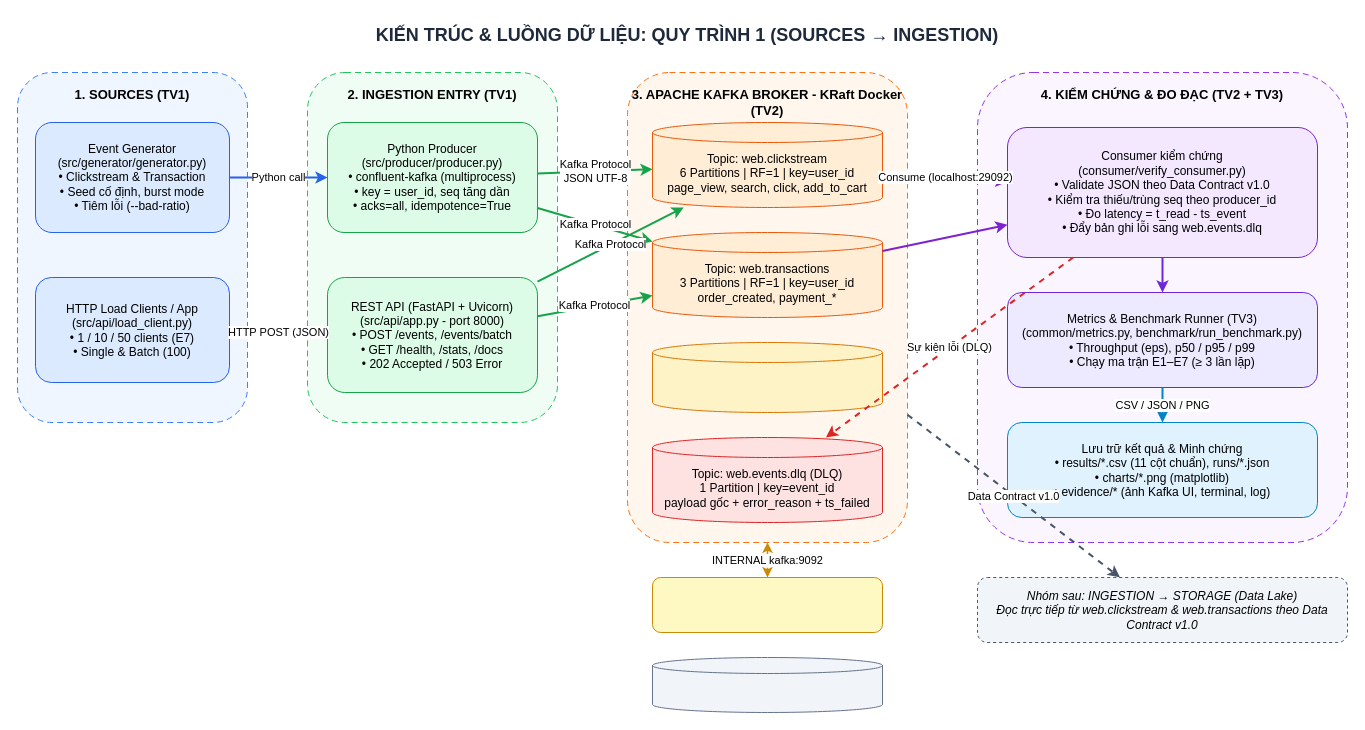
The diagram is 1365 pixels wide and 730 high, and some of its shapes have lost their labels. The centre of each missing label's shape, as x and y in pixels:
"Docker Volume: kafka_data (/var/kafka/logs, retention 168h)" goes at (767,684).
"Kafka UI (:8080) Giám sát topic, partition, message" goes at (767,604).
"Topics: bench.p1 / p3 / p6 1 / 3 / 6 Partitions (E1, E4, Baseline)" goes at (767,377).
